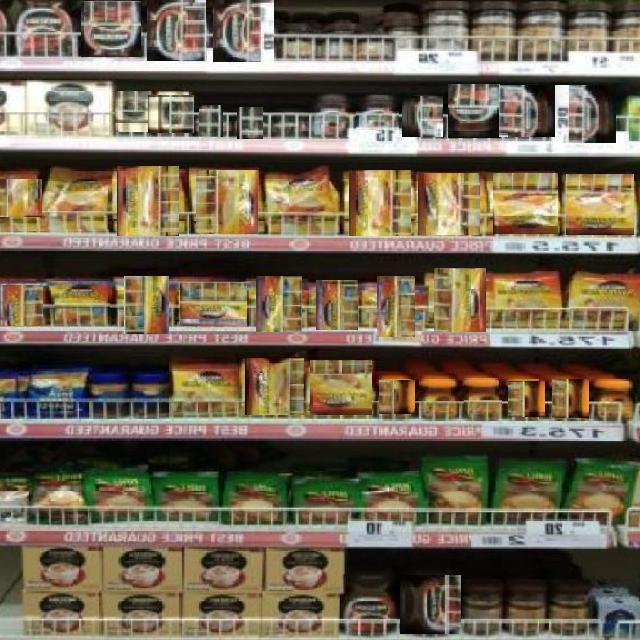Coffee: (118, 165, 179, 236), (565, 173, 634, 235), (492, 172, 558, 234), (43, 168, 110, 229), (350, 169, 411, 236), (270, 172, 333, 236), (195, 171, 258, 234), (419, 173, 480, 235), (214, 0, 274, 62), (554, 85, 616, 143), (401, 575, 461, 634), (340, 575, 398, 636), (148, 0, 206, 61), (570, 275, 640, 325), (15, 0, 76, 57), (309, 360, 372, 415), (245, 357, 304, 415), (81, 0, 141, 57), (434, 269, 486, 332), (496, 274, 556, 326), (180, 282, 247, 326), (447, 83, 500, 138), (176, 365, 236, 413), (499, 86, 555, 137), (124, 276, 169, 334), (256, 276, 302, 332), (55, 282, 110, 325), (378, 276, 415, 337), (317, 279, 358, 330), (0, 180, 49, 217), (0, 284, 43, 326), (356, 95, 399, 136), (148, 95, 194, 133), (402, 95, 443, 137), (310, 95, 351, 137), (114, 91, 152, 132), (595, 379, 634, 418), (552, 379, 589, 418), (464, 379, 502, 416), (507, 381, 545, 417), (421, 378, 454, 417), (379, 380, 415, 414), (198, 105, 223, 137), (238, 107, 263, 139), (274, 111, 307, 134)
